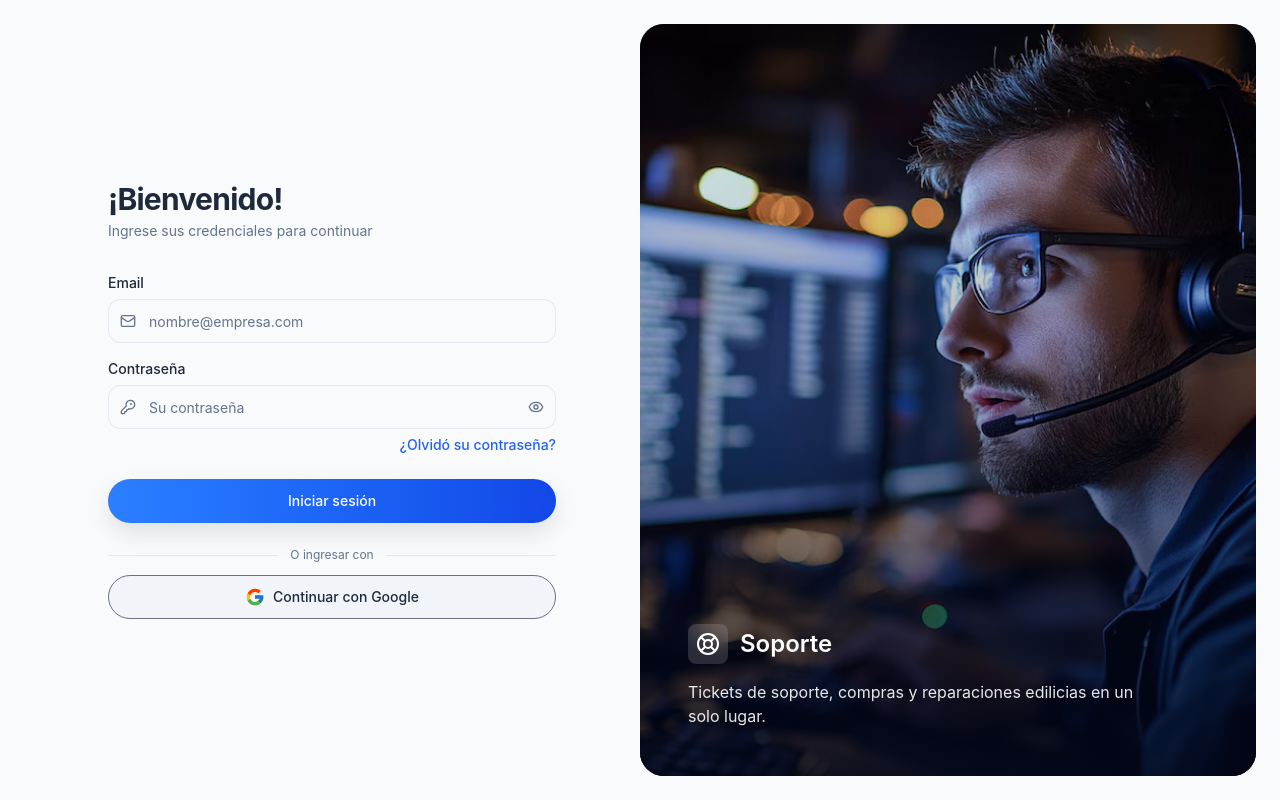
Test case: LoginPage › los botones desaparecen al pasar al segundo paso (solo con paso === credenciales)
Expected: the link "Continuar con Google" is shown, [108,575,556,619]
In the field labelled "Email": (332, 321) [108,299,556,343], type "user@example.com"
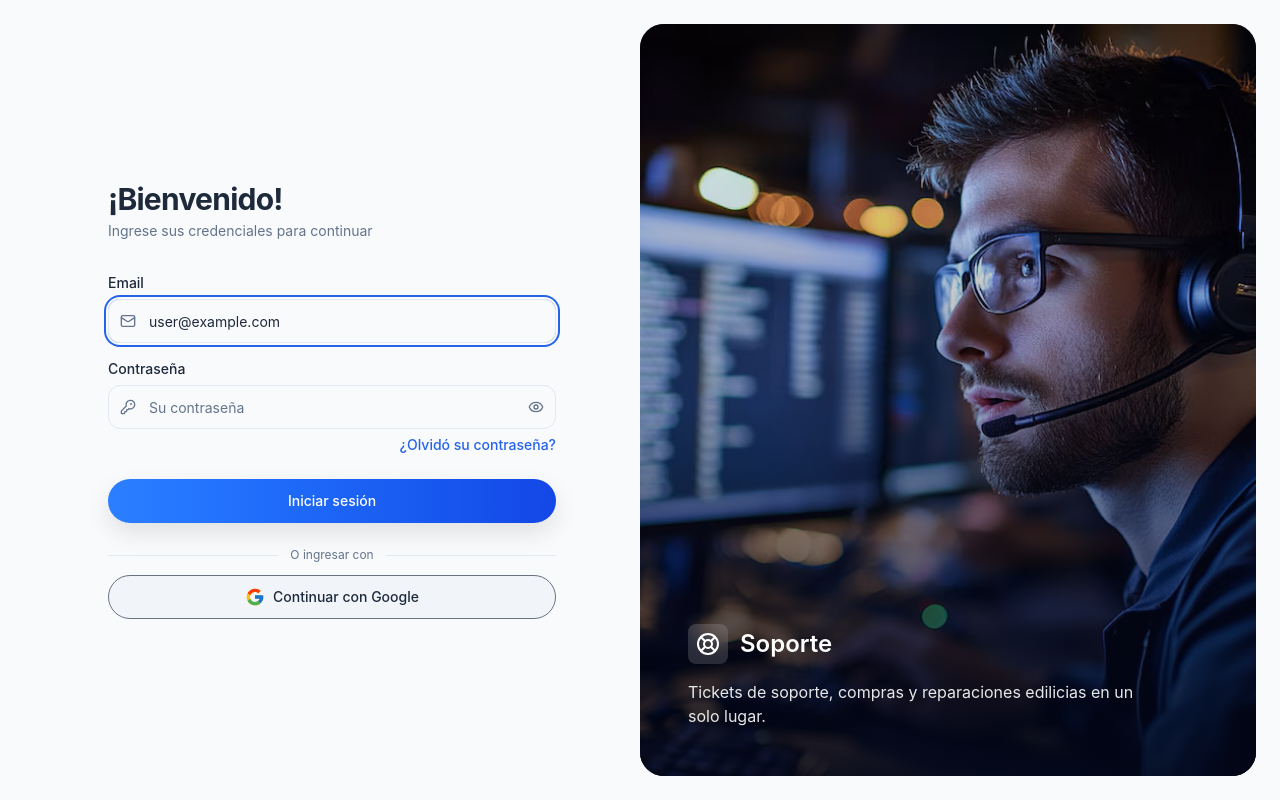
In the password field labelled "Contraseña": (332, 407) [108,385,556,429], type "secret123"
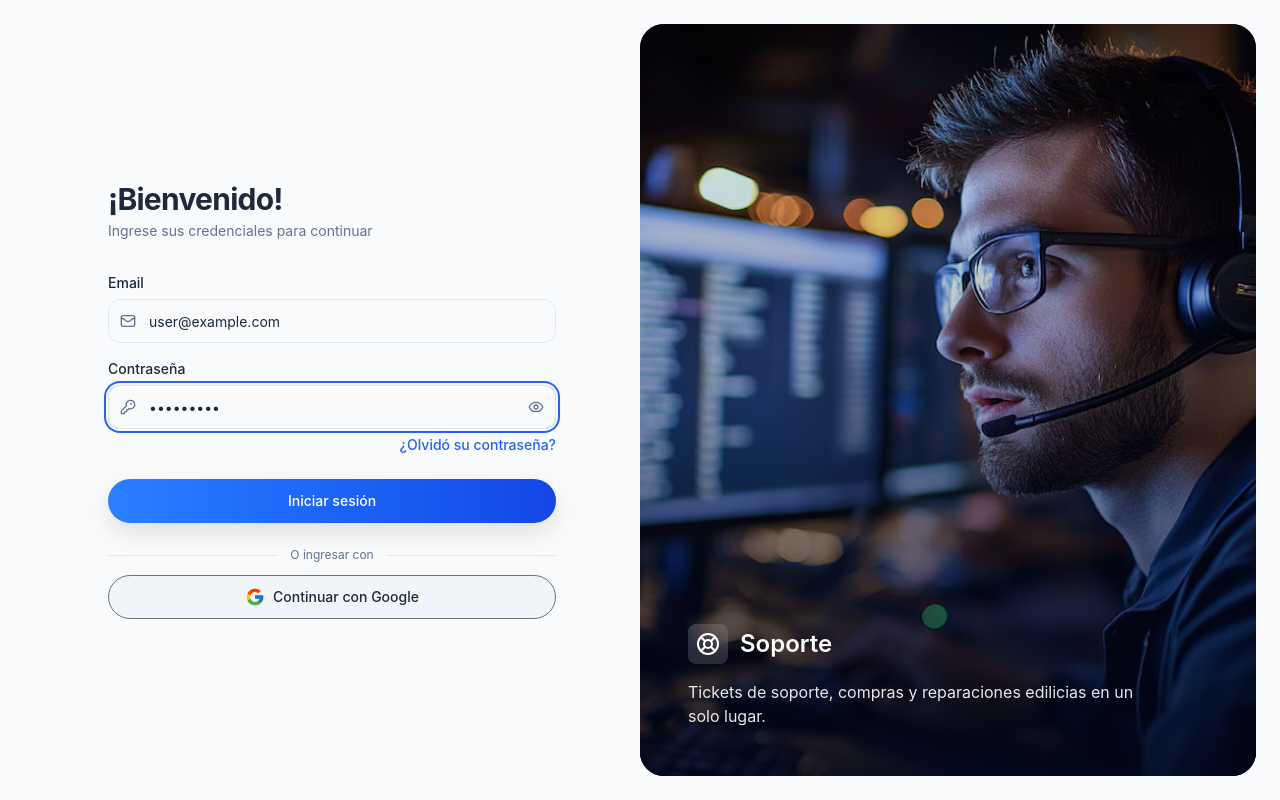
Click the button "Iniciar sesión": (332, 501) [108,479,556,523]
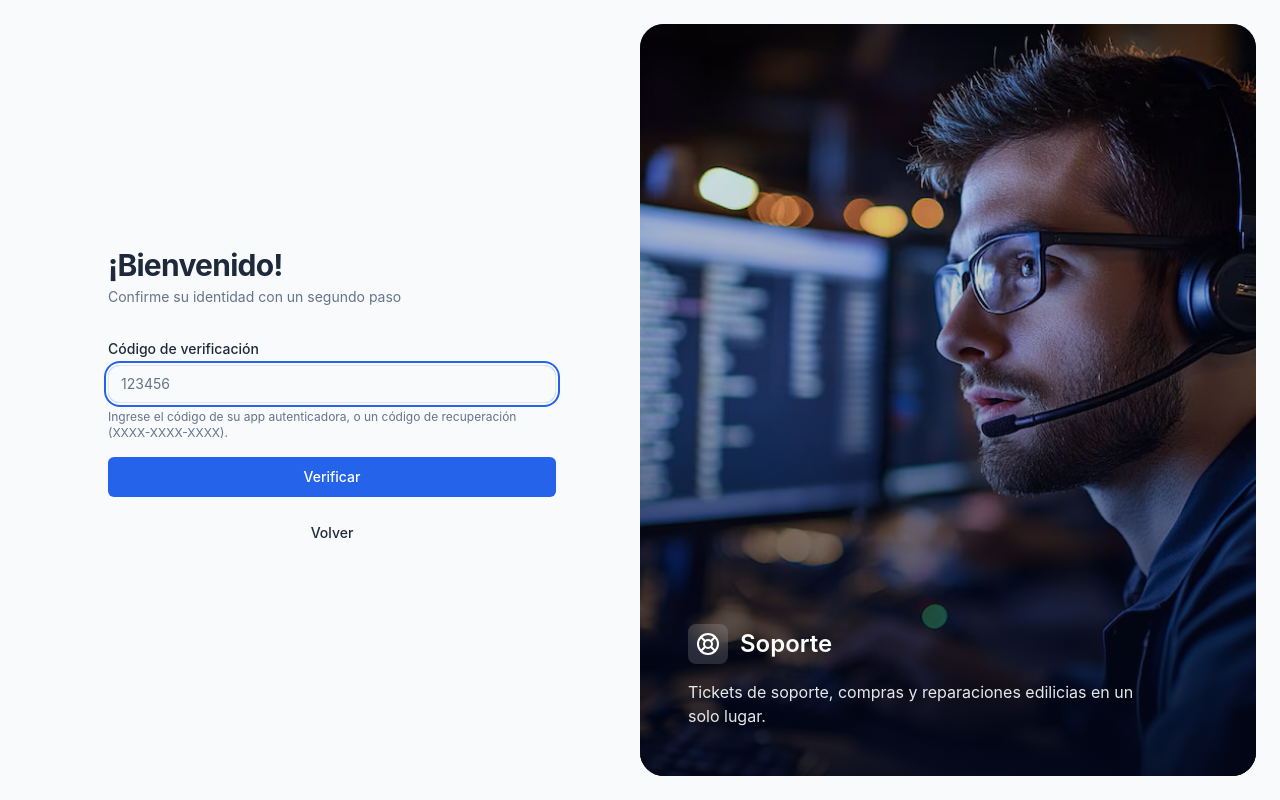
Now the field labelled "Código de verificación" is shown, box [108,365,556,403]
Now the link "Continuar con" is gone
